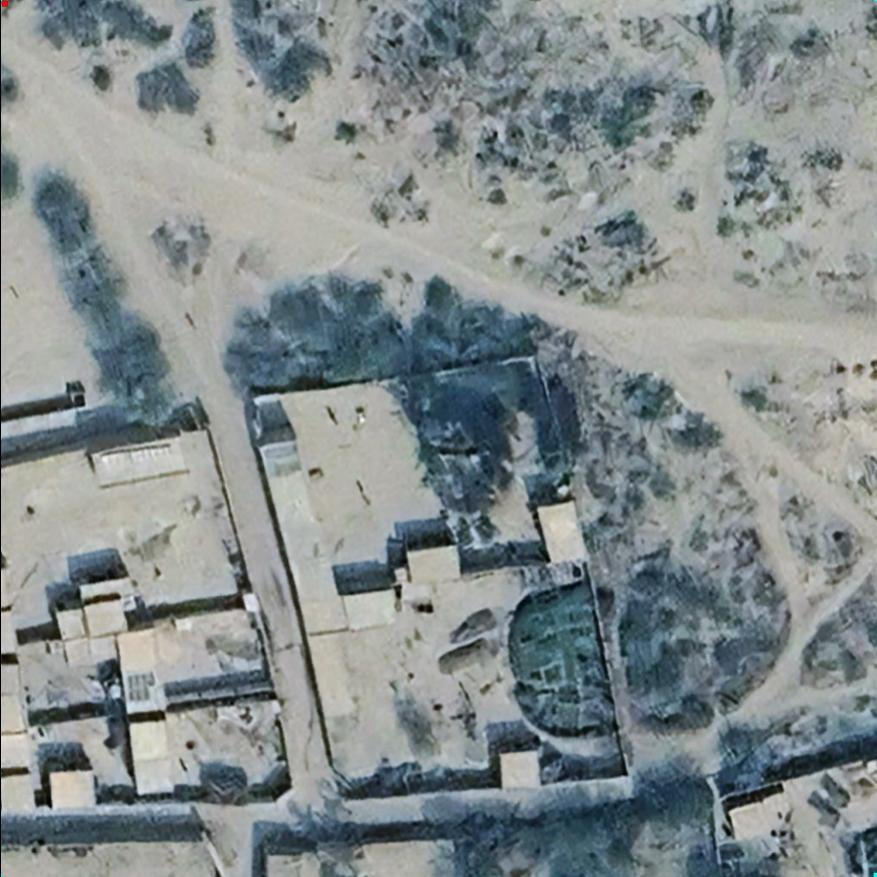Solarpanel: (123, 671, 157, 704)
